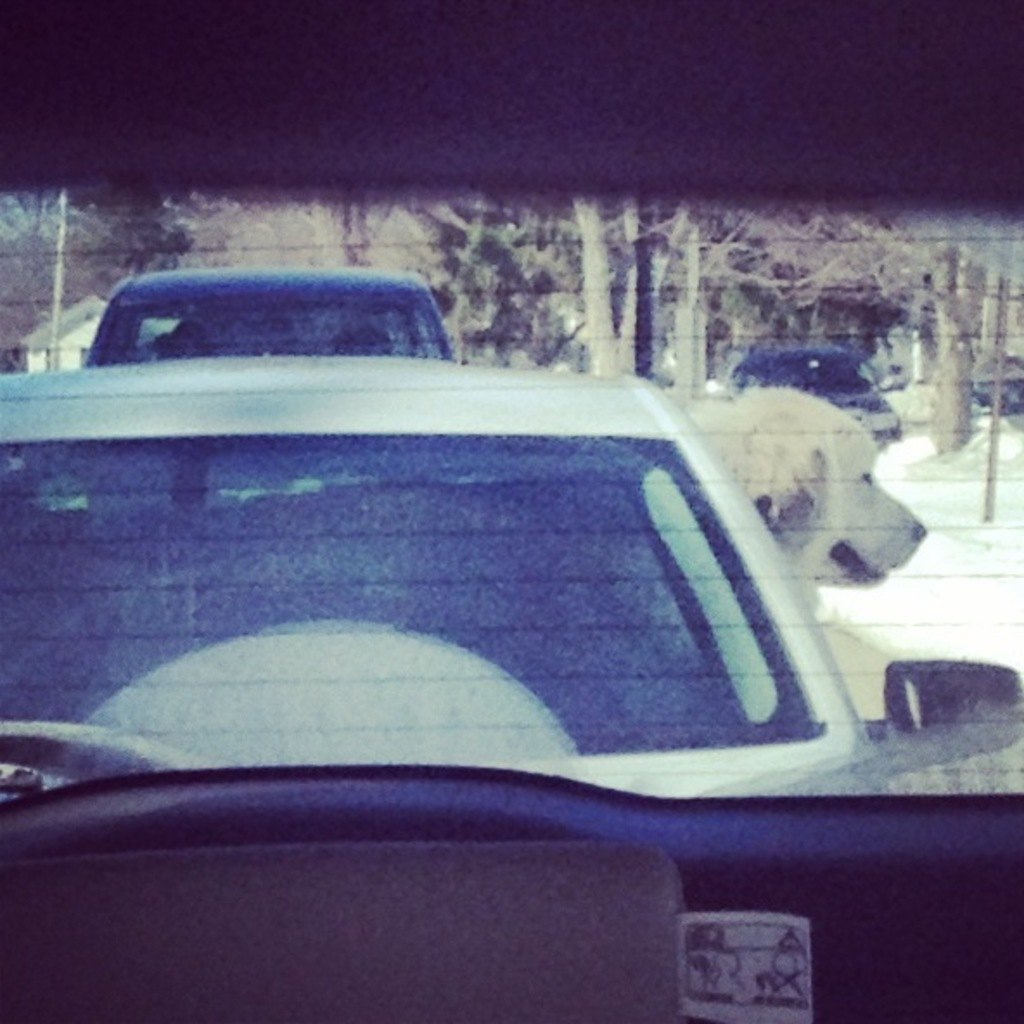Car: (0, 0, 1022, 1022), (0, 356, 1022, 811), (53, 261, 482, 368), (723, 347, 902, 442)
